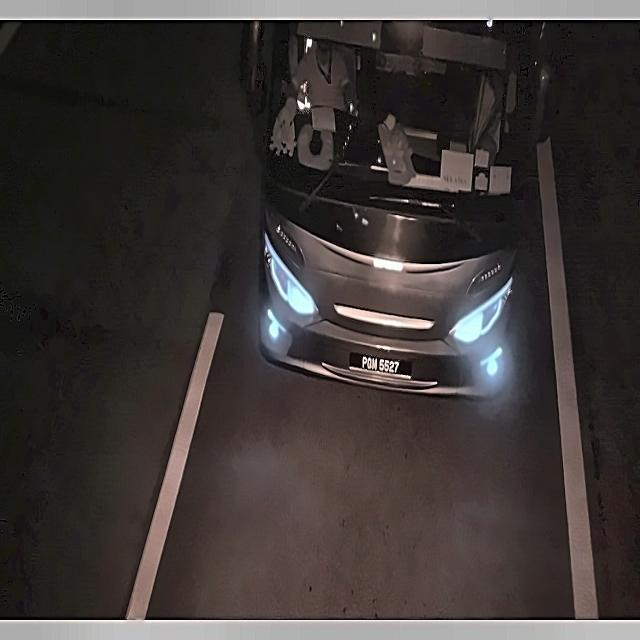car: (356, 346, 407, 383)
